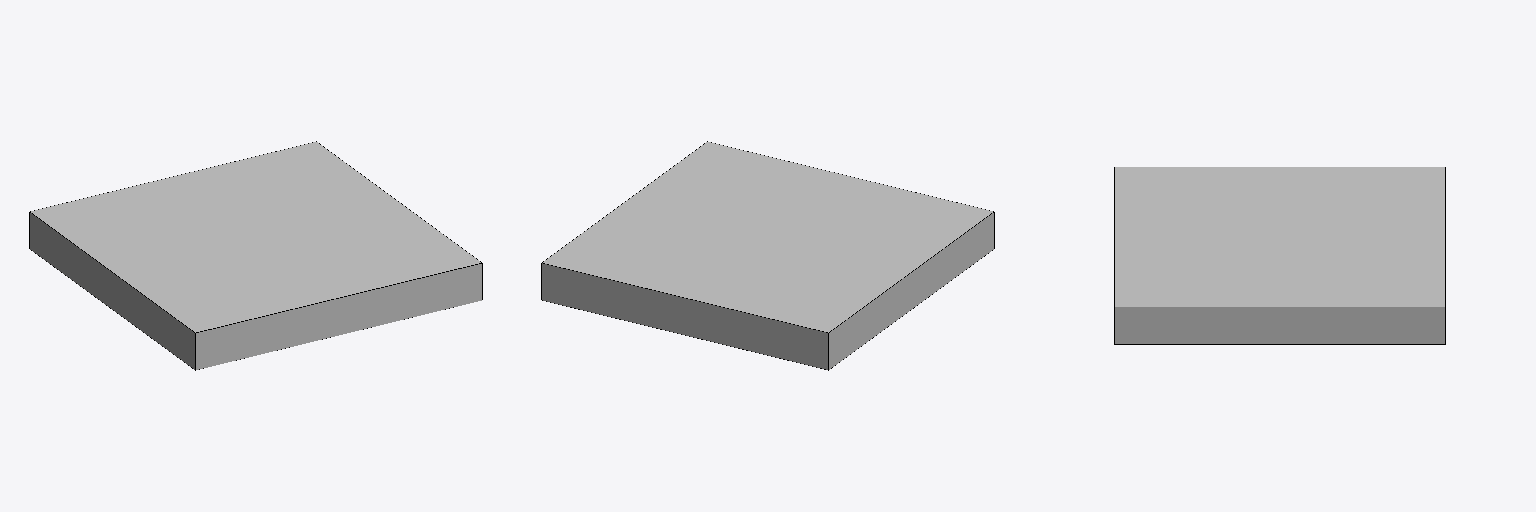
3 views of the same model, side by side, from view 1: azimuth 30°, elevation 25°; view 2: azimuth 150°, elevation 25°; view 3: azimuth 270°, elevation 25° (orthographic).
Visible parts, largest first — view 1: generic_floor_Cube.014; view 2: generic_floor_Cube.014; view 3: generic_floor_Cube.014.
Boxes of the visible parts, <box> form: generic_floor_Cube.014: <box>29,141,482,370</box>; generic_floor_Cube.014: <box>541,141,994,370</box>; generic_floor_Cube.014: <box>1114,167,1445,344</box>.
Bounding box in the file's own units: 16 × 2 × 16.
1 materials, 1 textured.